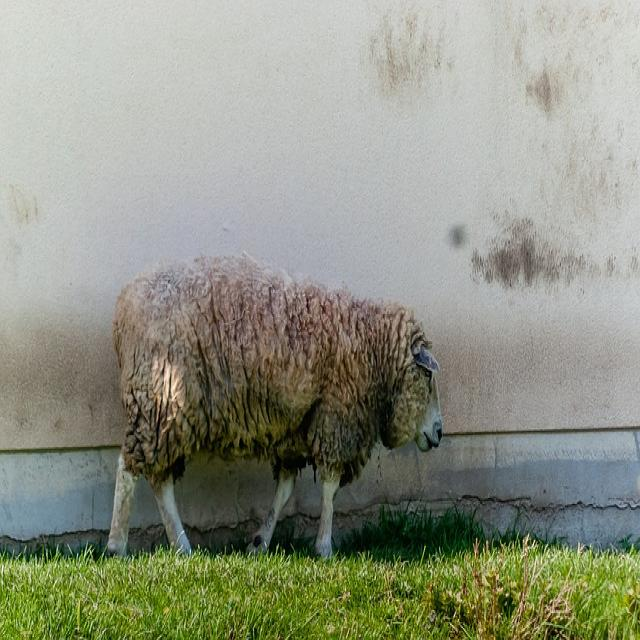sheep: (105, 250, 443, 560)
